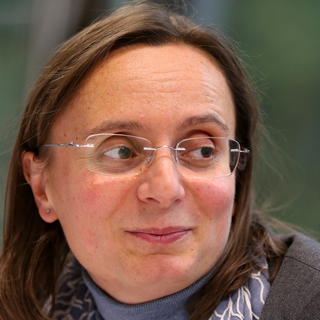eye: (99, 140, 146, 164), (174, 140, 217, 164)
